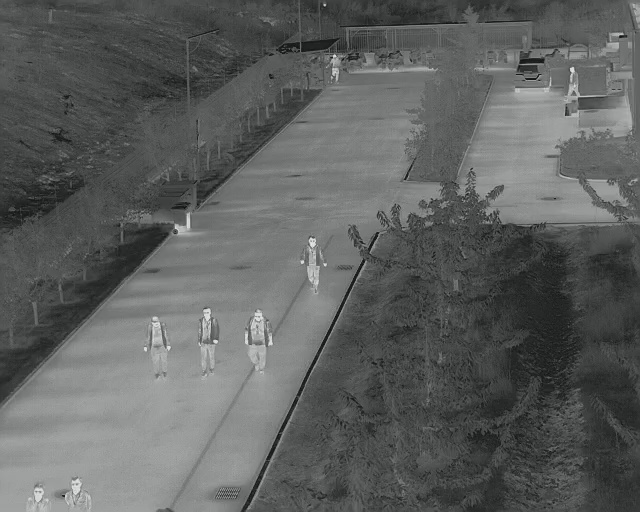person: (242, 308, 274, 373), (143, 315, 170, 378), (299, 235, 326, 295), (196, 306, 218, 378), (63, 475, 91, 512), (564, 66, 580, 101), (326, 53, 340, 84)
vehicle: (511, 57, 553, 94)
